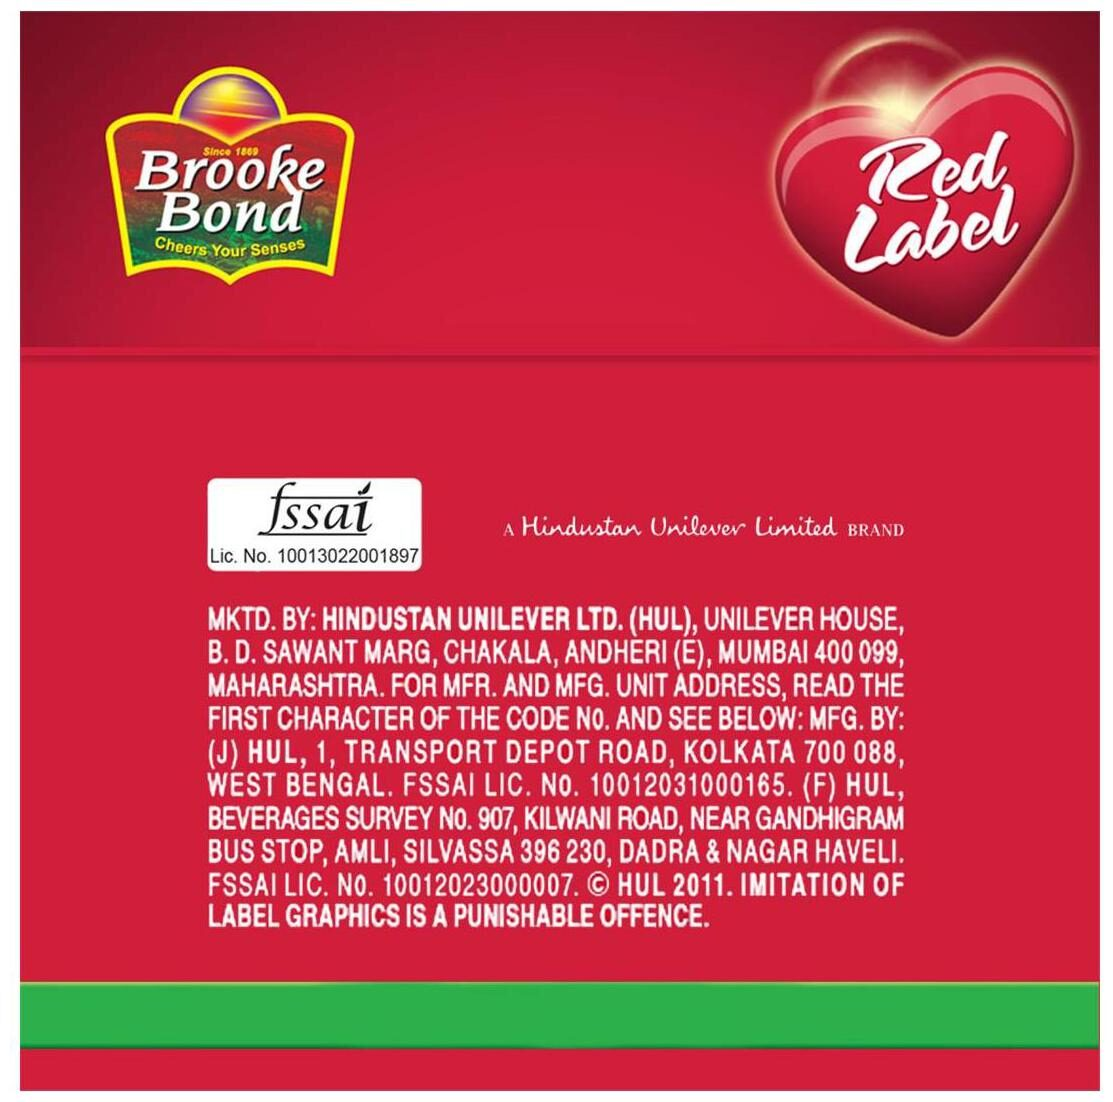fssai: (255, 481, 375, 537)
